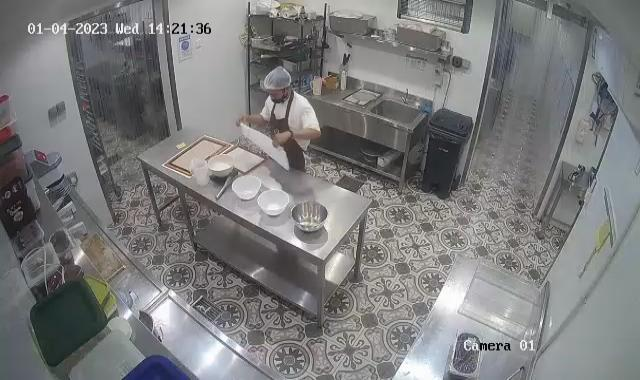hairnet: (264, 66, 294, 94)
